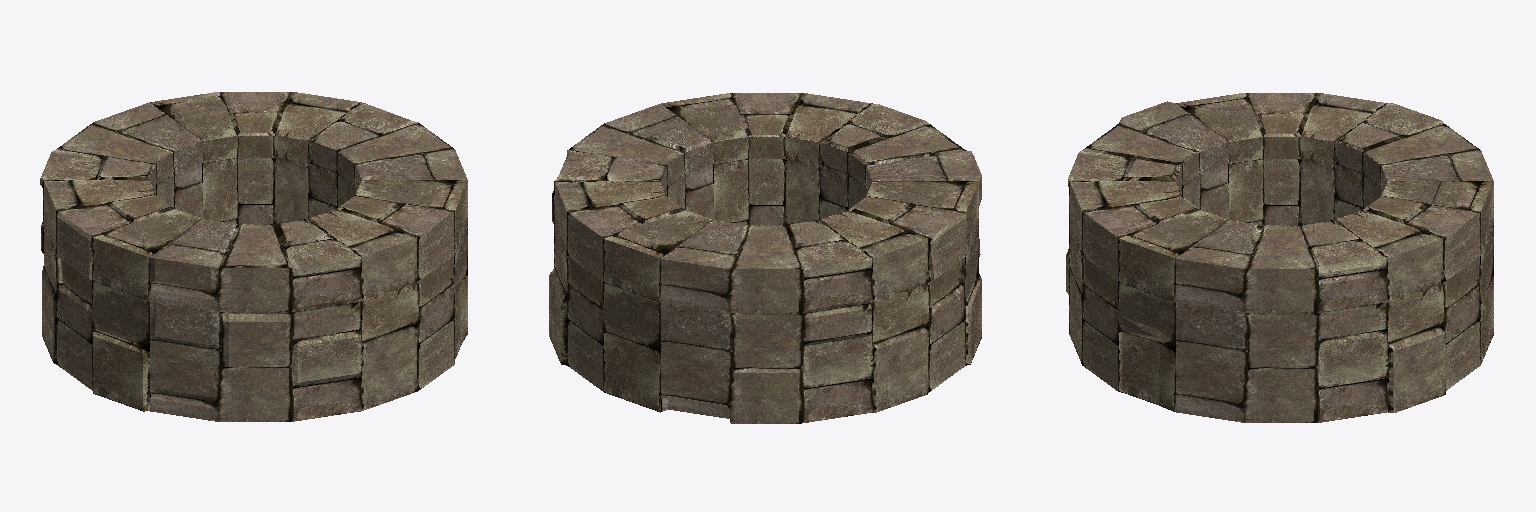
3 renders of one model, left to right at view 1: azimuth 30°, elevation 25°; view 2: azimuth 150°, elevation 25°; view 3: azimuth 270°, elevation 25°, orthographic.
Parts seen in each view (by area): view 1: Tube001; view 2: Tube001; view 3: Tube001.
Boxes of the visible parts, box(x1,y1,x2,y2) form: Tube001: box(40, 92, 467, 421); Tube001: box(549, 93, 981, 423); Tube001: box(1066, 93, 1493, 422).
Bounding box in the file's own units: 0.9949 × 0.4083 × 1.01.
1 materials, 1 textured.